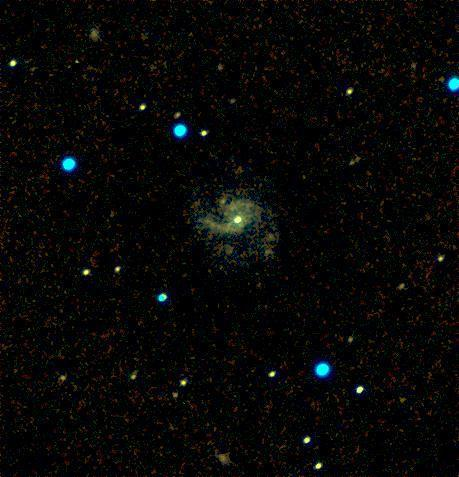star: (206, 184, 236, 214)
